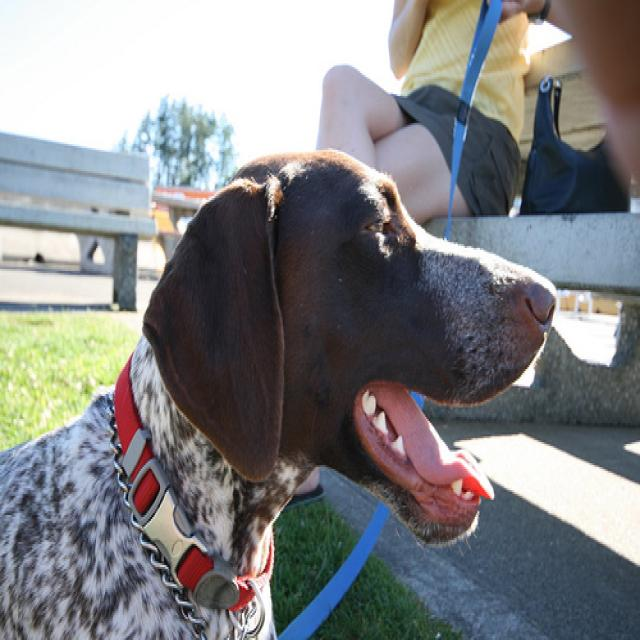dog-german_shorthaired: (1, 135, 568, 636)
